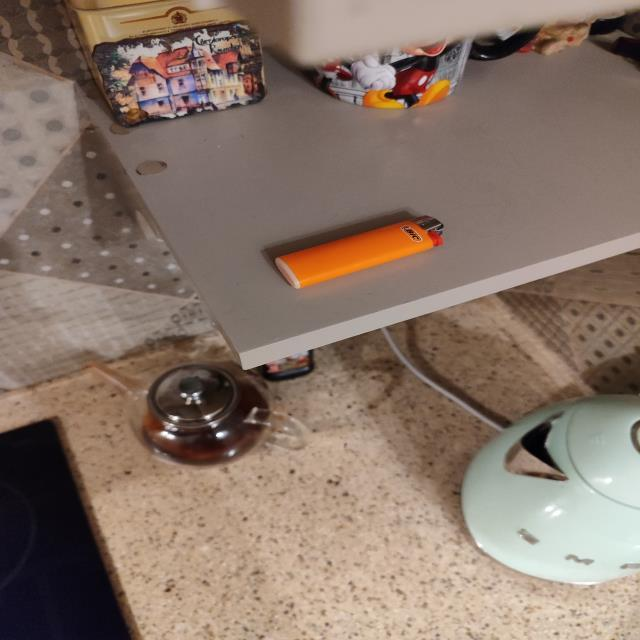lighter: (275, 219, 442, 288)
